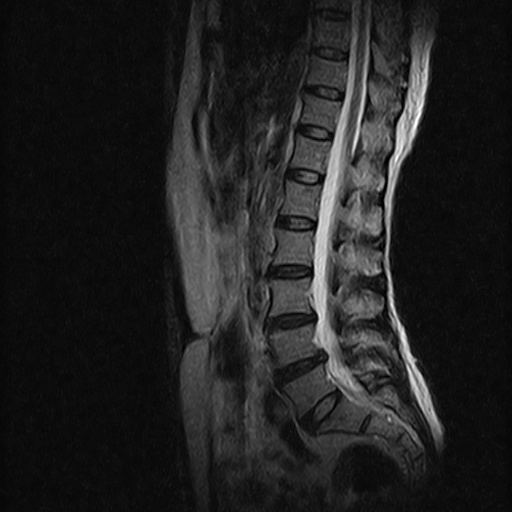L1,v1: (273, 182, 326, 211)
L1-L2,v1: (273, 208, 326, 237)
L2,v2: (265, 232, 318, 261)
L2-L3,v1: (264, 254, 317, 283)
L3,v2: (262, 282, 315, 311)
L3-L4,v2: (265, 307, 318, 336)
L4,v2: (266, 330, 319, 359)
L4-L5,v3: (273, 351, 326, 380)
L5,v2: (285, 375, 338, 404)
L5-S1,v1: (297, 393, 350, 422)
T12-L1,v1: (279, 160, 332, 189)
